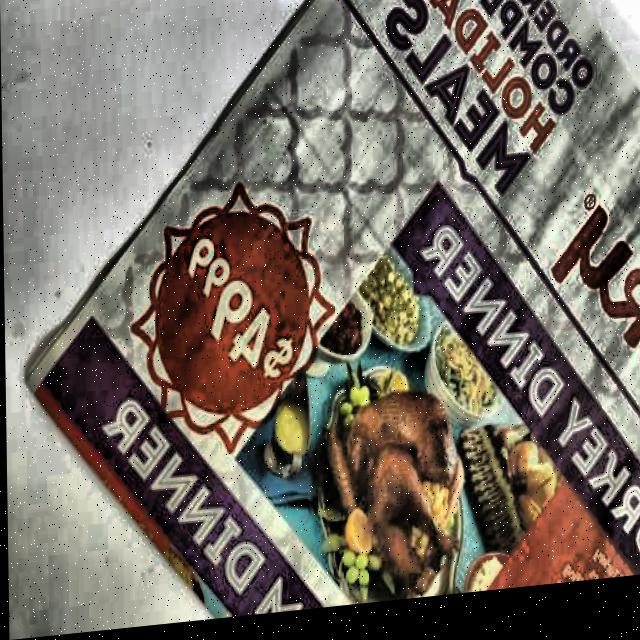paper: (20, 0, 640, 638)
